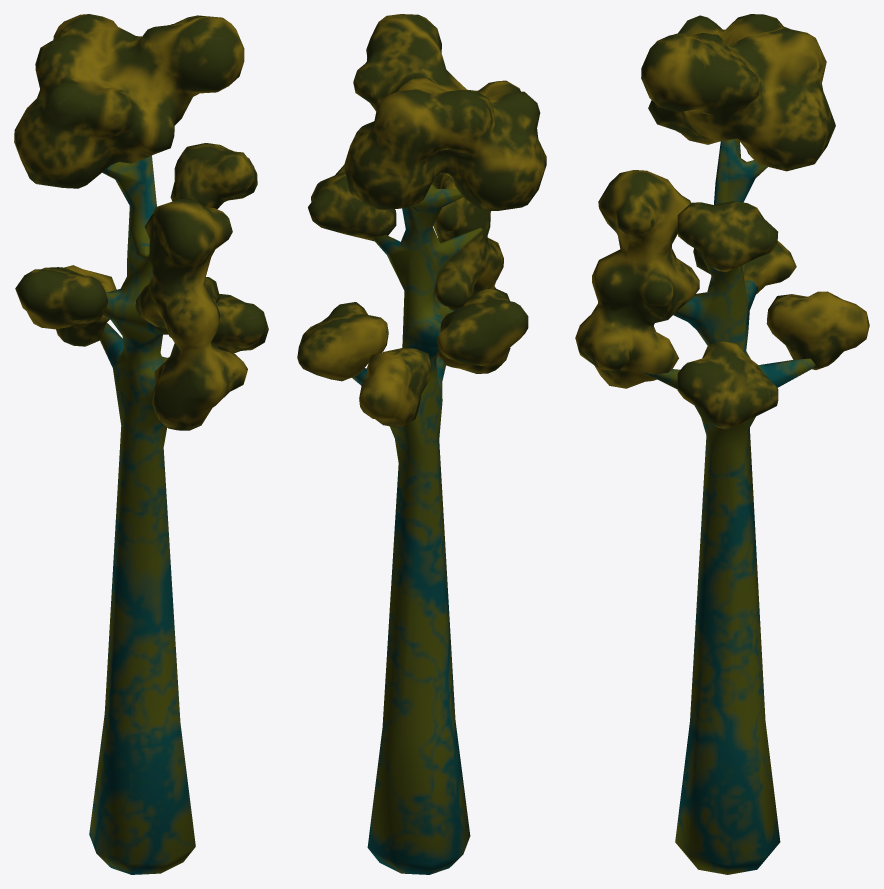
The model's file is Tree1.fbx.
3 renders of one model, left to right at view 1: azimuth 30°, elevation 25°; view 2: azimuth 150°, elevation 25°; view 3: azimuth 270°, elevation 25°, orthographic. The views are drawn at different scales.
Visible parts, largest first — view 1: Tree1; view 2: Tree1; view 3: Tree1.
Part boxes in pixels (x1=…): Tree1: x1=14, y1=14, x2=268, y2=874; Tree1: x1=297, y1=14, x2=546, y2=874; Tree1: x1=575, y1=14, x2=869, y2=874.
Size of the model in its own units: 1.45 by 4.86 by 1.53.
